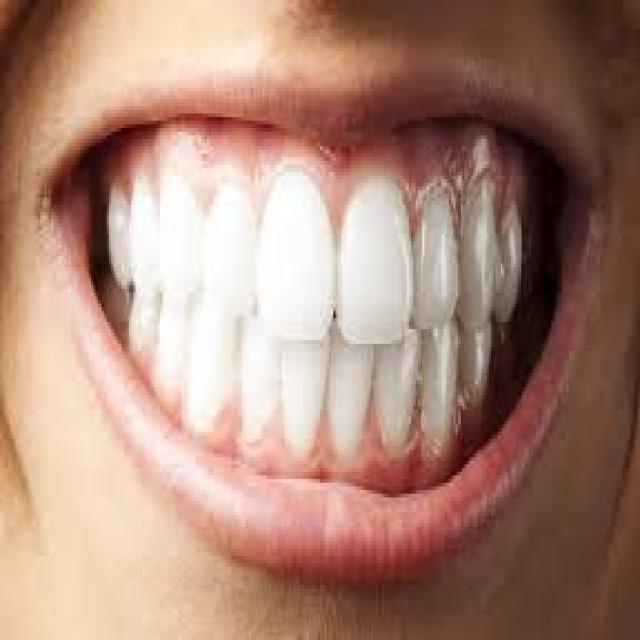tooth: (251, 176, 329, 340), (338, 168, 411, 340), (411, 183, 462, 329), (202, 172, 251, 311), (276, 333, 326, 457), (376, 337, 424, 457), (200, 307, 240, 432), (462, 190, 498, 326), (242, 311, 274, 461), (160, 175, 198, 292), (333, 329, 369, 450), (424, 333, 460, 439), (458, 325, 493, 417), (498, 216, 526, 322), (160, 282, 189, 380), (131, 186, 158, 289), (107, 183, 133, 281), (124, 289, 162, 355)
